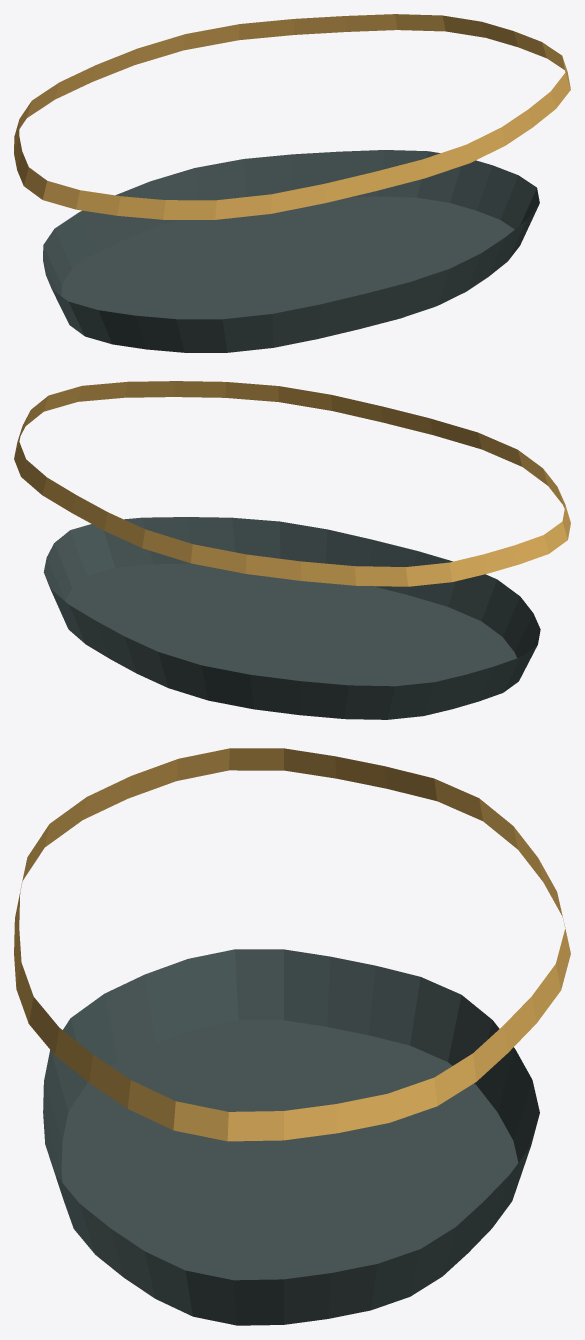
The model's file is horizon_rim.obj.
3 renders of one model, top to bottom at view 1: azimuth 30°, elevation 25°; view 2: azimuth 150°, elevation 25°; view 3: azimuth 270°, elevation 25°, orthographic. The views are drawn at different scales.
Visible parts, largest first — view 1: horizon_rim; view 2: horizon_rim; view 3: horizon_rim.
Boxes of the visible parts, x1,y1,x2,y2 form: horizon_rim: (14,14,570,352); horizon_rim: (14,381,570,719); horizon_rim: (14,748,570,1325).
Bounding box in the file's own units: 22.5 × 6.88 × 14.28.
